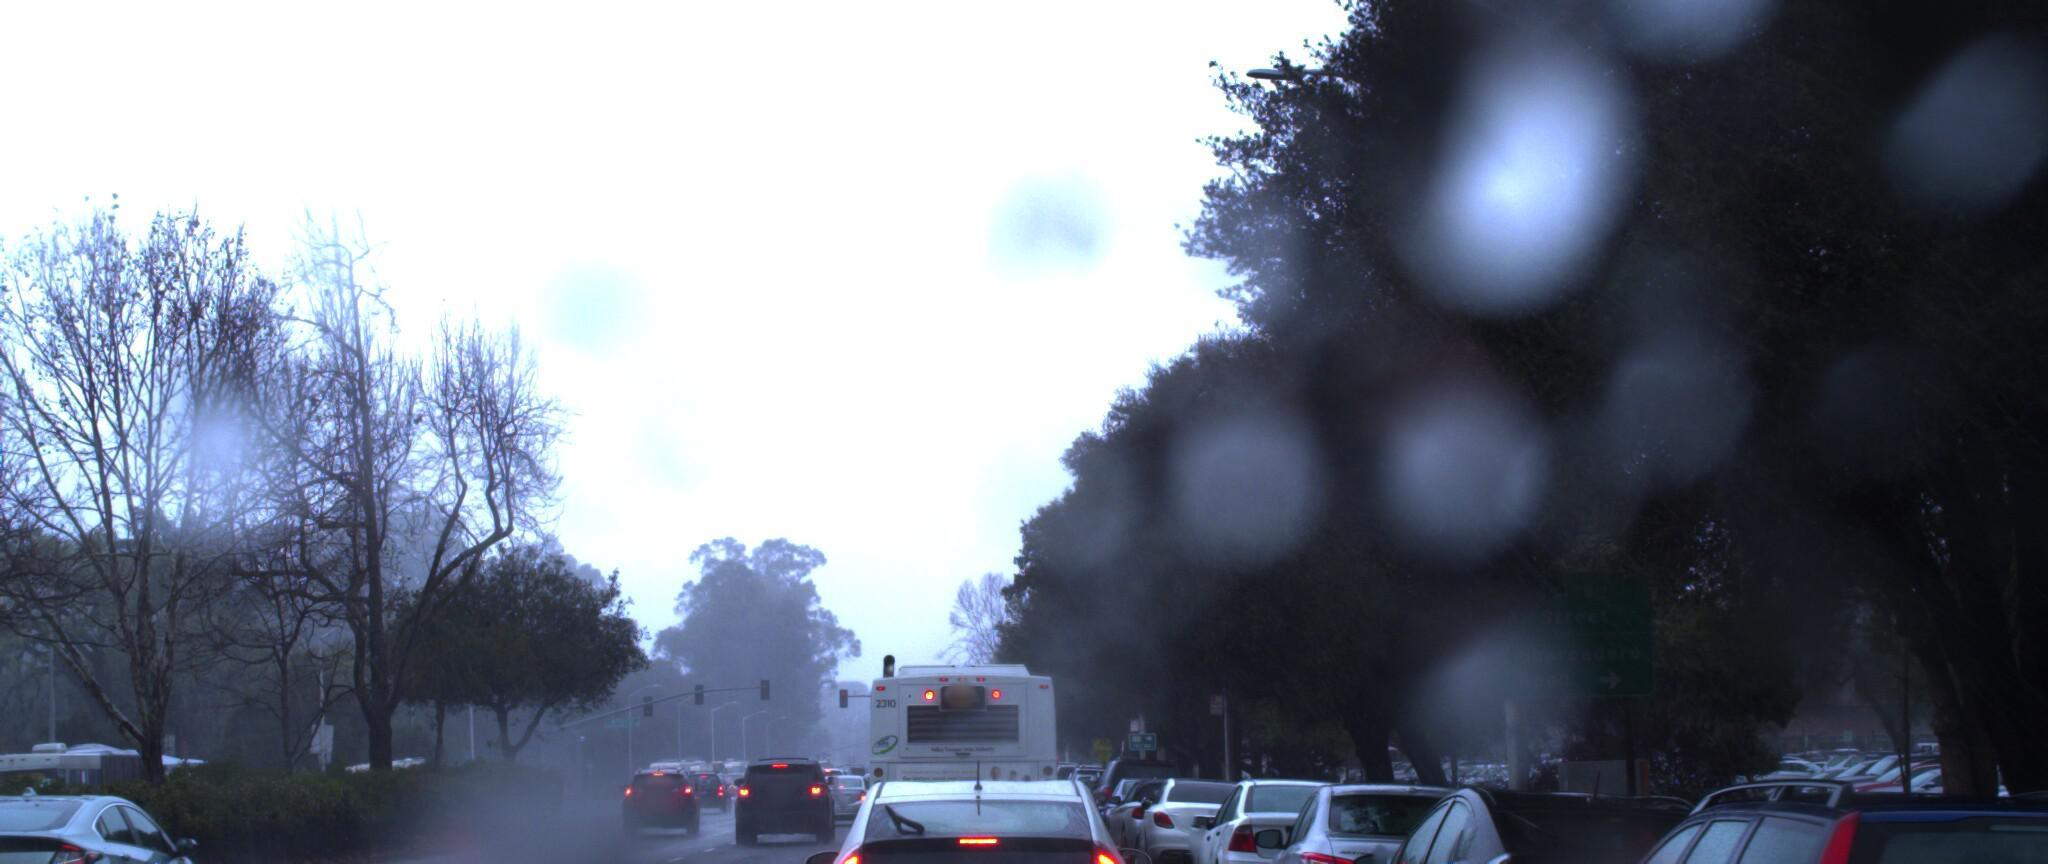bus: (853, 636, 1071, 864)
car: (1445, 773, 2048, 864), (788, 753, 1147, 864), (1302, 788, 1822, 864), (1212, 779, 1573, 864), (1157, 773, 1391, 864), (0, 773, 219, 864), (1102, 771, 1260, 864), (624, 764, 709, 835)
